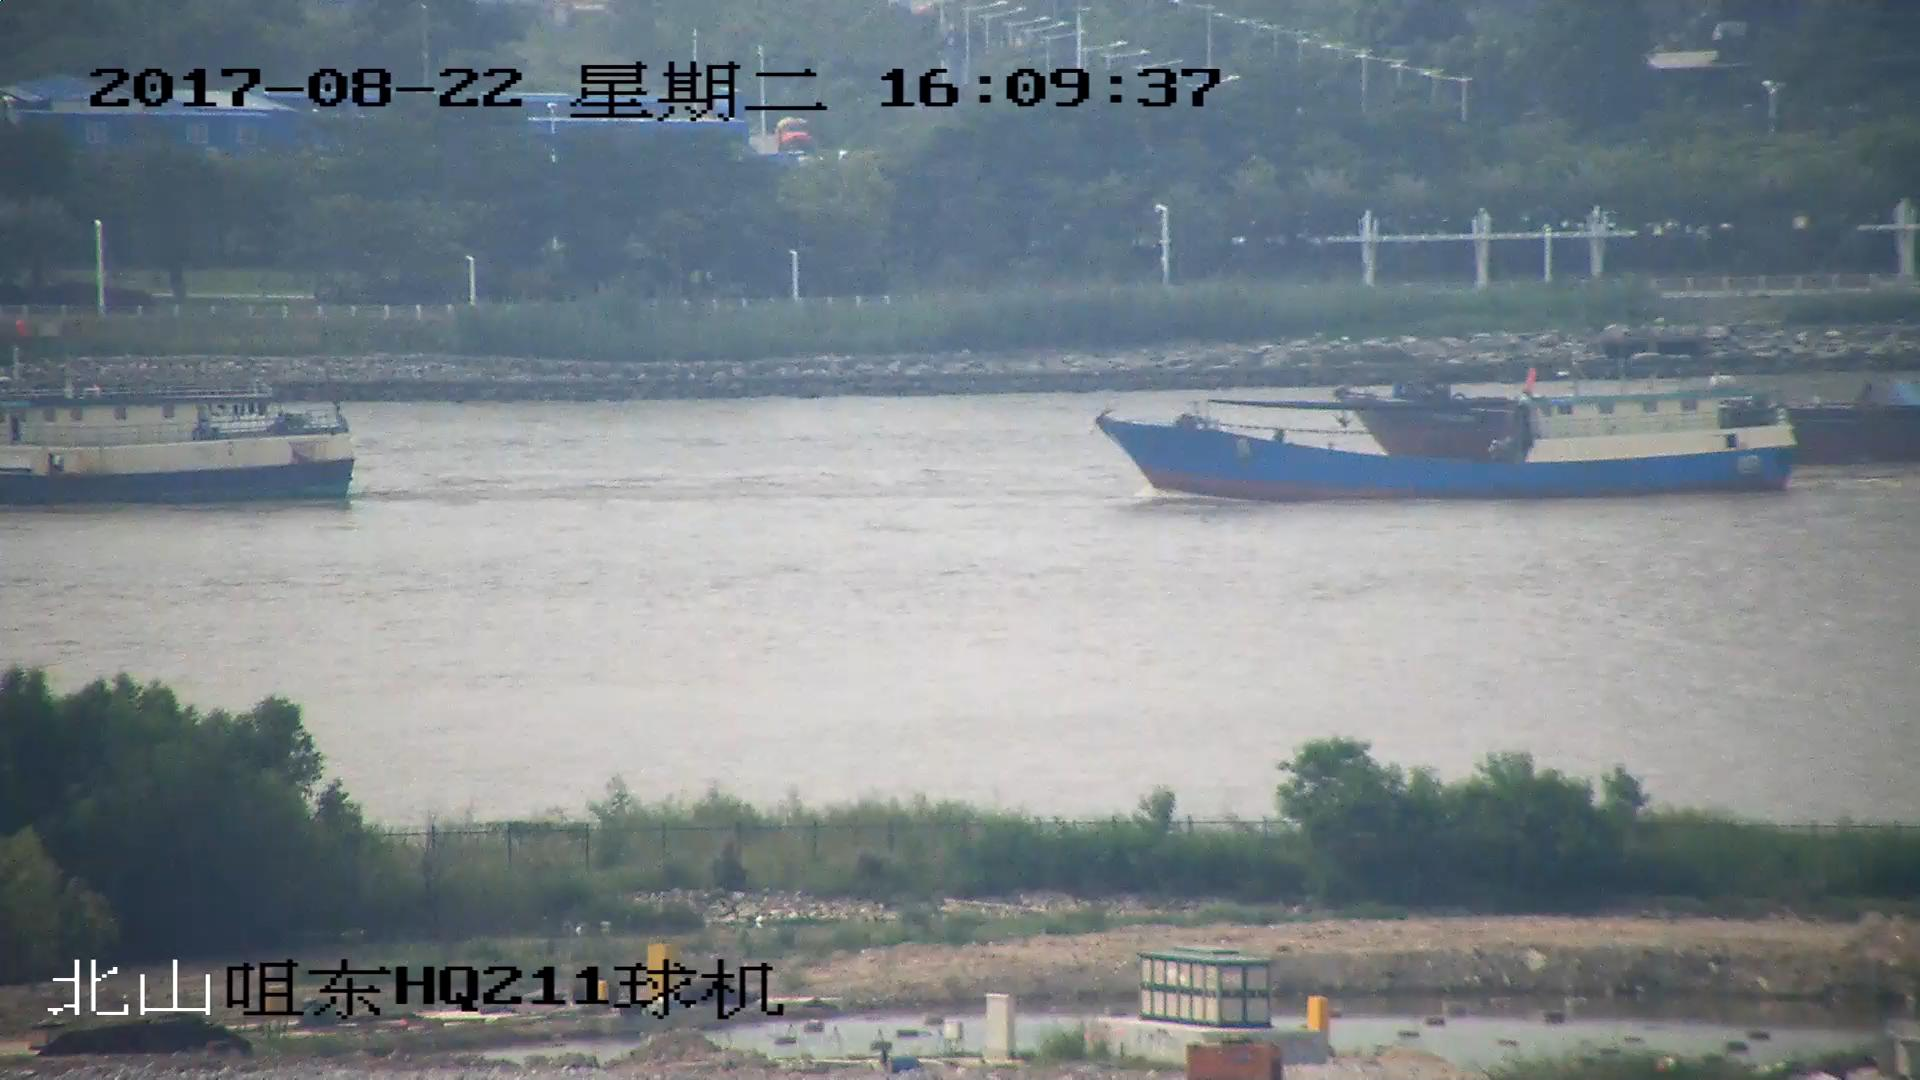bulk cargo carrier: (1761, 380, 1920, 461)
fishing boat: (1106, 359, 1799, 505), (1, 376, 357, 509)
